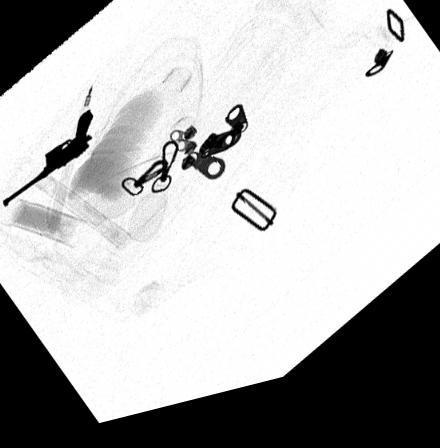Gun: (0, 114, 91, 209)
